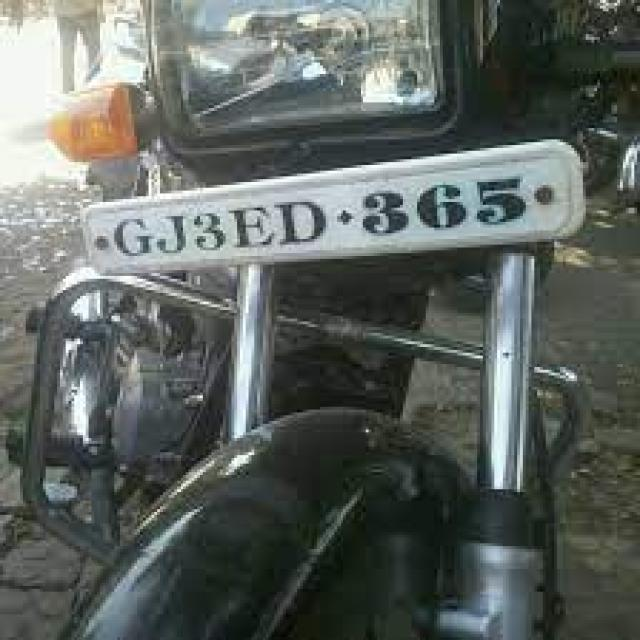number plate: (77, 136, 586, 276)
